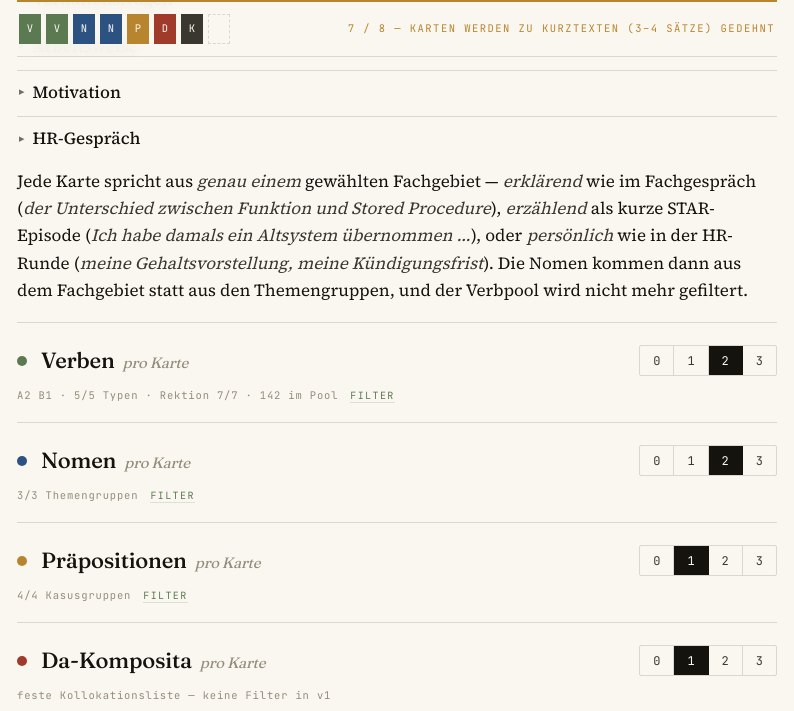
Scenario: SentenceSetup › zero total disables Start
(page scrolled)
Click the button "0" in the row of "Verben": (657, 361) [640,346,674,375]
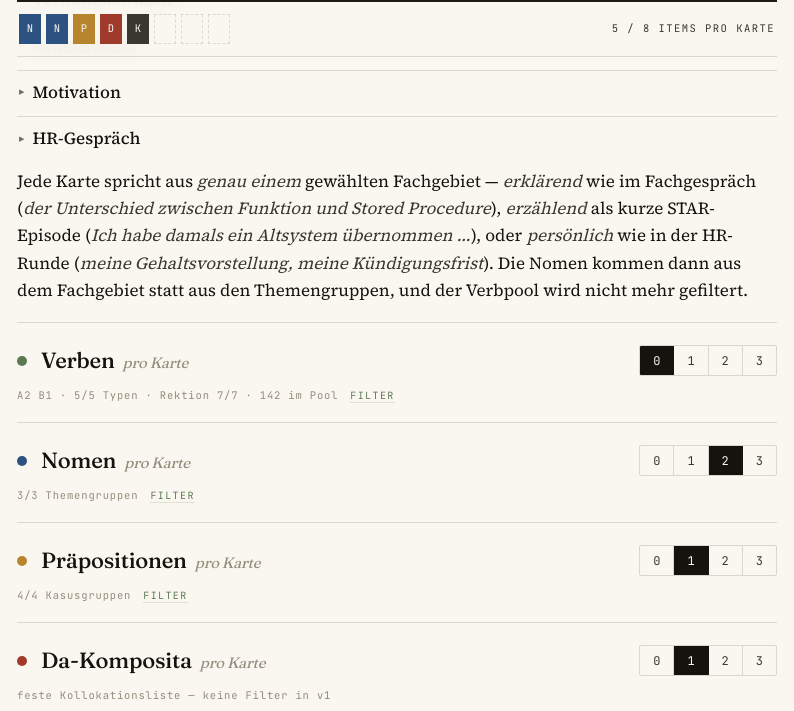
Click the 2nd button "0": (657, 461) [640,446,674,475]
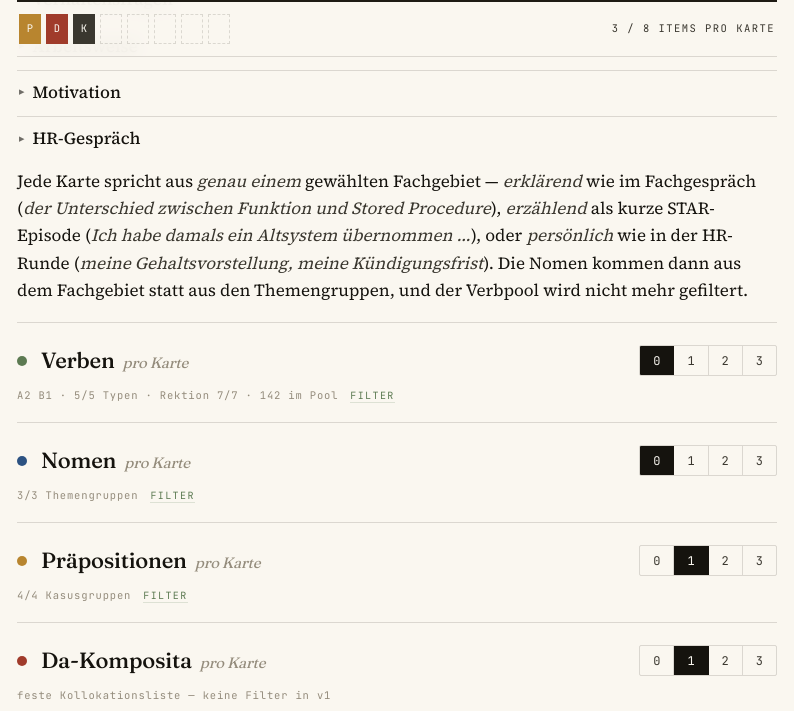
Click the button "0" in the row of "Präpositionen": (657, 561) [640,546,674,575]
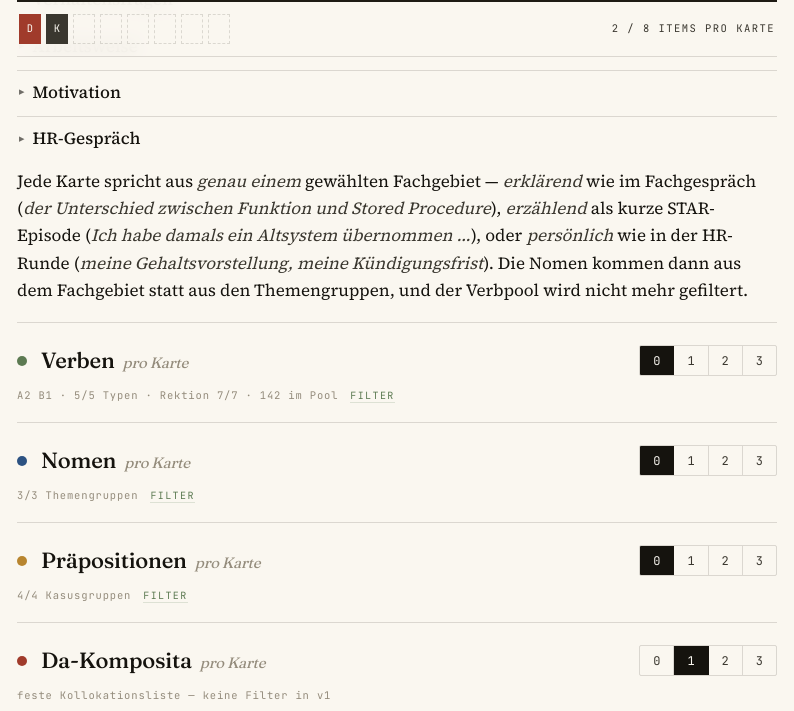
Click the button "0" in the row of "Da-Komposita": (657, 660) [640,646,674,675]
(page scrolled)
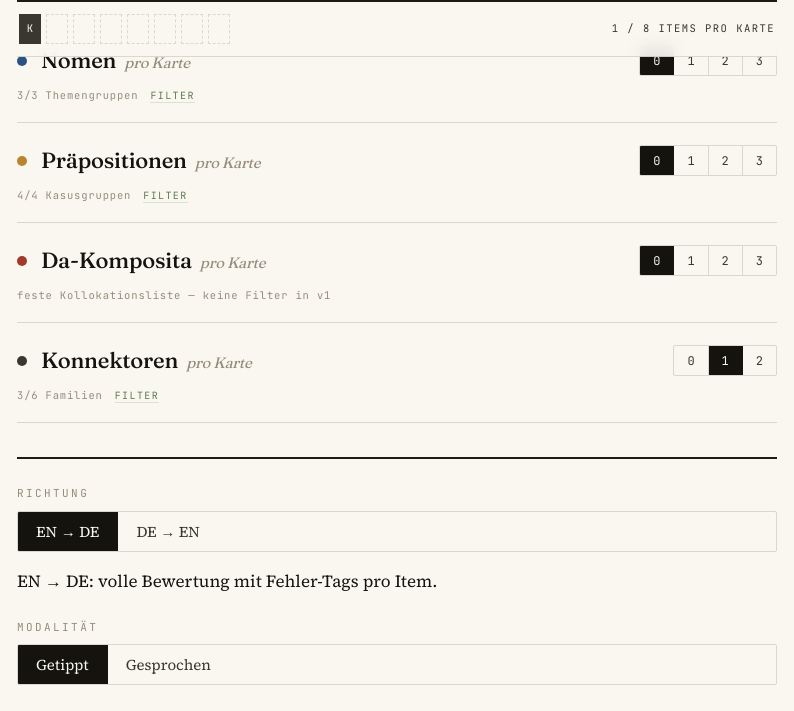
Click the button "0" in the row of "Konnektoren": (692, 360) [674,346,709,375]
(page scrolled)
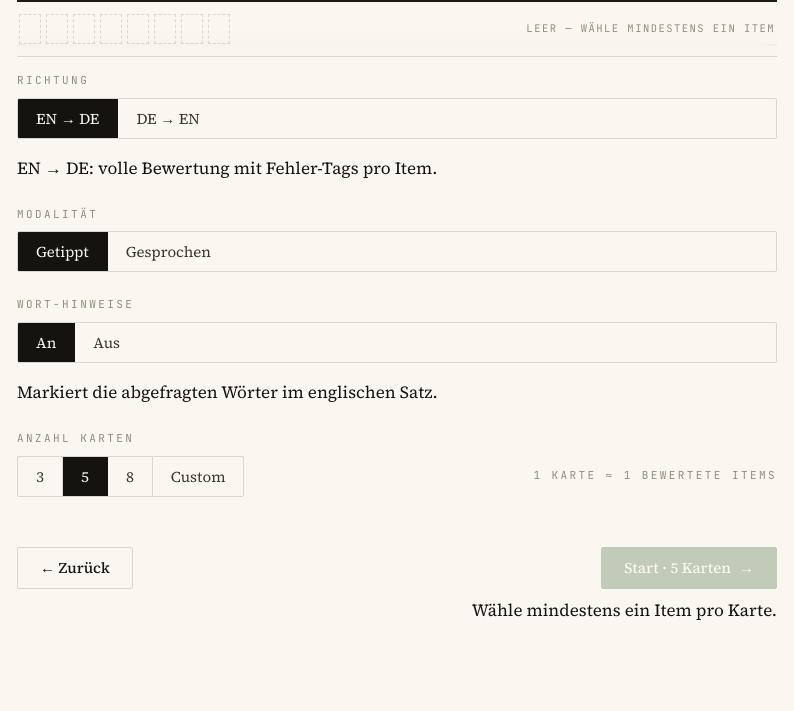
Check: the button "Start · 5 Karten →" is disabled, box [601,547,777,589]
